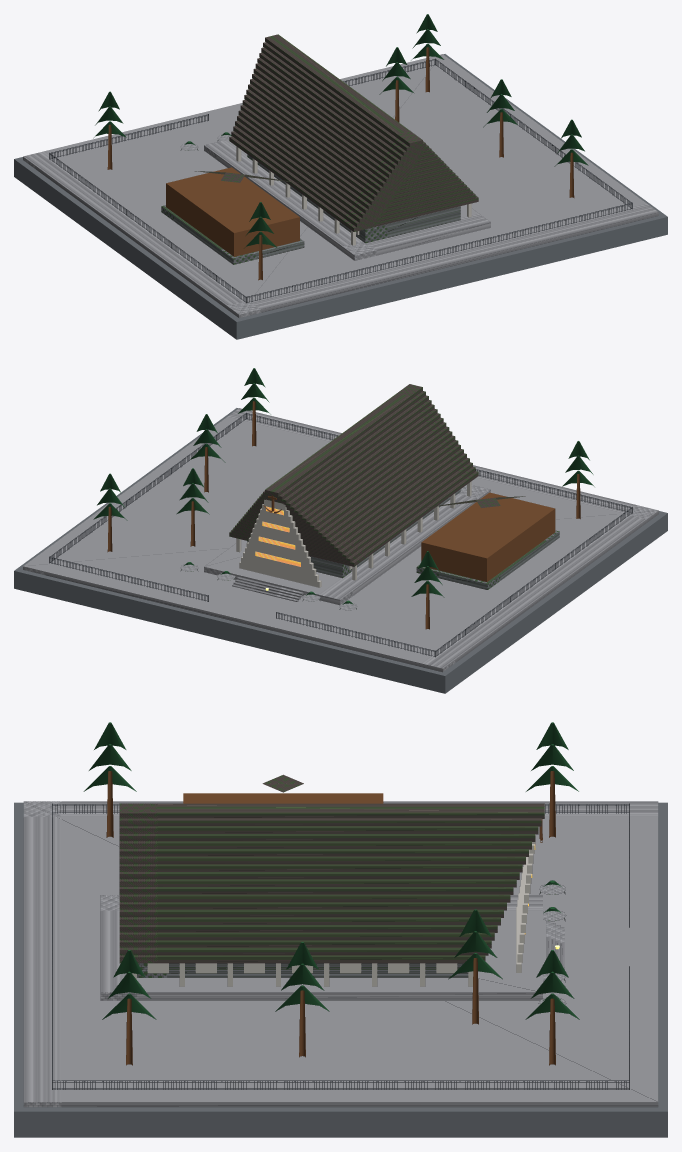
The model's file is ultra_lm_26_nha_tho_cam_ly.glb.
3 views of the same model, one above another, from view 1: azimuth 30°, elevation 25°; view 2: azimuth 150°, elevation 25°; view 3: azimuth 270°, elevation 25° (orthographic). The views are drawn at different scales.
Visible parts, largest first — view 1: Courtyard_And_Steps, Towering_17m_Rong_Roof, FoundationSkirt_Minus3m, Timber_Rectory_Cross_And_BuffaloHorns, Perimeter_Balustrades, CamLy_Pine_Trees, SplitBasalt_Sanctuary_Walls, Exposed_Concrete_Columns_And_Beams; view 2: Courtyard_And_Steps, Towering_17m_Rong_Roof, FoundationSkirt_Minus3m, Timber_Rectory_Cross_And_BuffaloHorns, Perimeter_Balustrades, Exposed_Concrete_Columns_And_Beams, CamLy_Pine_Trees, SplitBasalt_Sanctuary_Walls, KHo_Brocade_StainedGlass_Windows; view 3: Courtyard_And_Steps, Towering_17m_Rong_Roof, FoundationSkirt_Minus3m, CamLy_Pine_Trees, Timber_Rectory_Cross_And_BuffaloHorns, Perimeter_Balustrades, Exposed_Concrete_Columns_And_Beams, SplitBasalt_Sanctuary_Walls.
Boxes of the visible parts, x1,y1,x2,y2 form: Courtyard_And_Steps: (23,54,658,318); Towering_17m_Rong_Roof: (195,34,478,231); FoundationSkirt_Minus3m: (14,54,667,339); Timber_Rectory_Cross_And_BuffaloHorns: (107,47,574,280); Perimeter_Balustrades: (49,58,632,303); CamLy_Pine_Trees: (93,14,588,248); SplitBasalt_Sanctuary_Walls: (161,140,460,264); Exposed_Concrete_Columns_And_Beams: (236,146,471,245); Courtyard_And_Steps: (23,408,658,672); Towering_17m_Rong_Roof: (229,384,525,566); FoundationSkirt_Minus3m: (14,408,667,693); Timber_Rectory_Cross_And_BuffaloHorns: (107,401,580,629); Perimeter_Balustrades: (49,412,632,657); Exposed_Concrete_Columns_And_Beams: (236,481,471,587); CamLy_Pine_Trees: (93,368,594,604); SplitBasalt_Sanctuary_Walls: (181,489,559,610); KHo_Brocade_StainedGlass_Windows: (255,506,300,566); Courtyard_And_Steps: (23,801,658,1107); Towering_17m_Rong_Roof: (119,774,544,963); FoundationSkirt_Minus3m: (14,802,667,1137); CamLy_Pine_Trees: (83,722,579,1019); Timber_Rectory_Cross_And_BuffaloHorns: (106,771,555,1065); Perimeter_Balustrades: (52,803,629,1089); Exposed_Concrete_Columns_And_Beams: (132,834,535,986); SplitBasalt_Sanctuary_Walls: (137,891,565,981).
Size of the model in its own units: 76 by 20.05 by 68.
10 materials, 4 textured.
